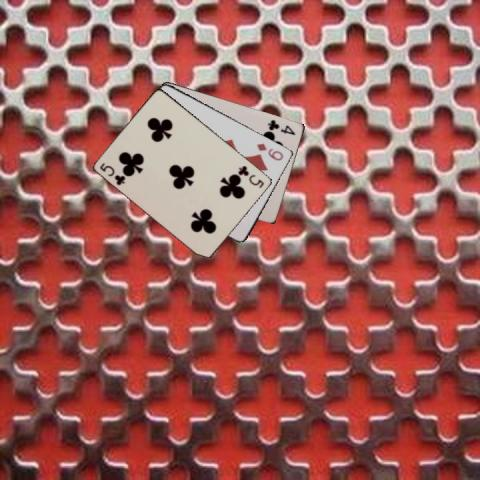4c: (264, 116, 296, 136)
5c: (236, 163, 266, 190), (98, 160, 128, 187)
9d: (254, 140, 285, 162)
